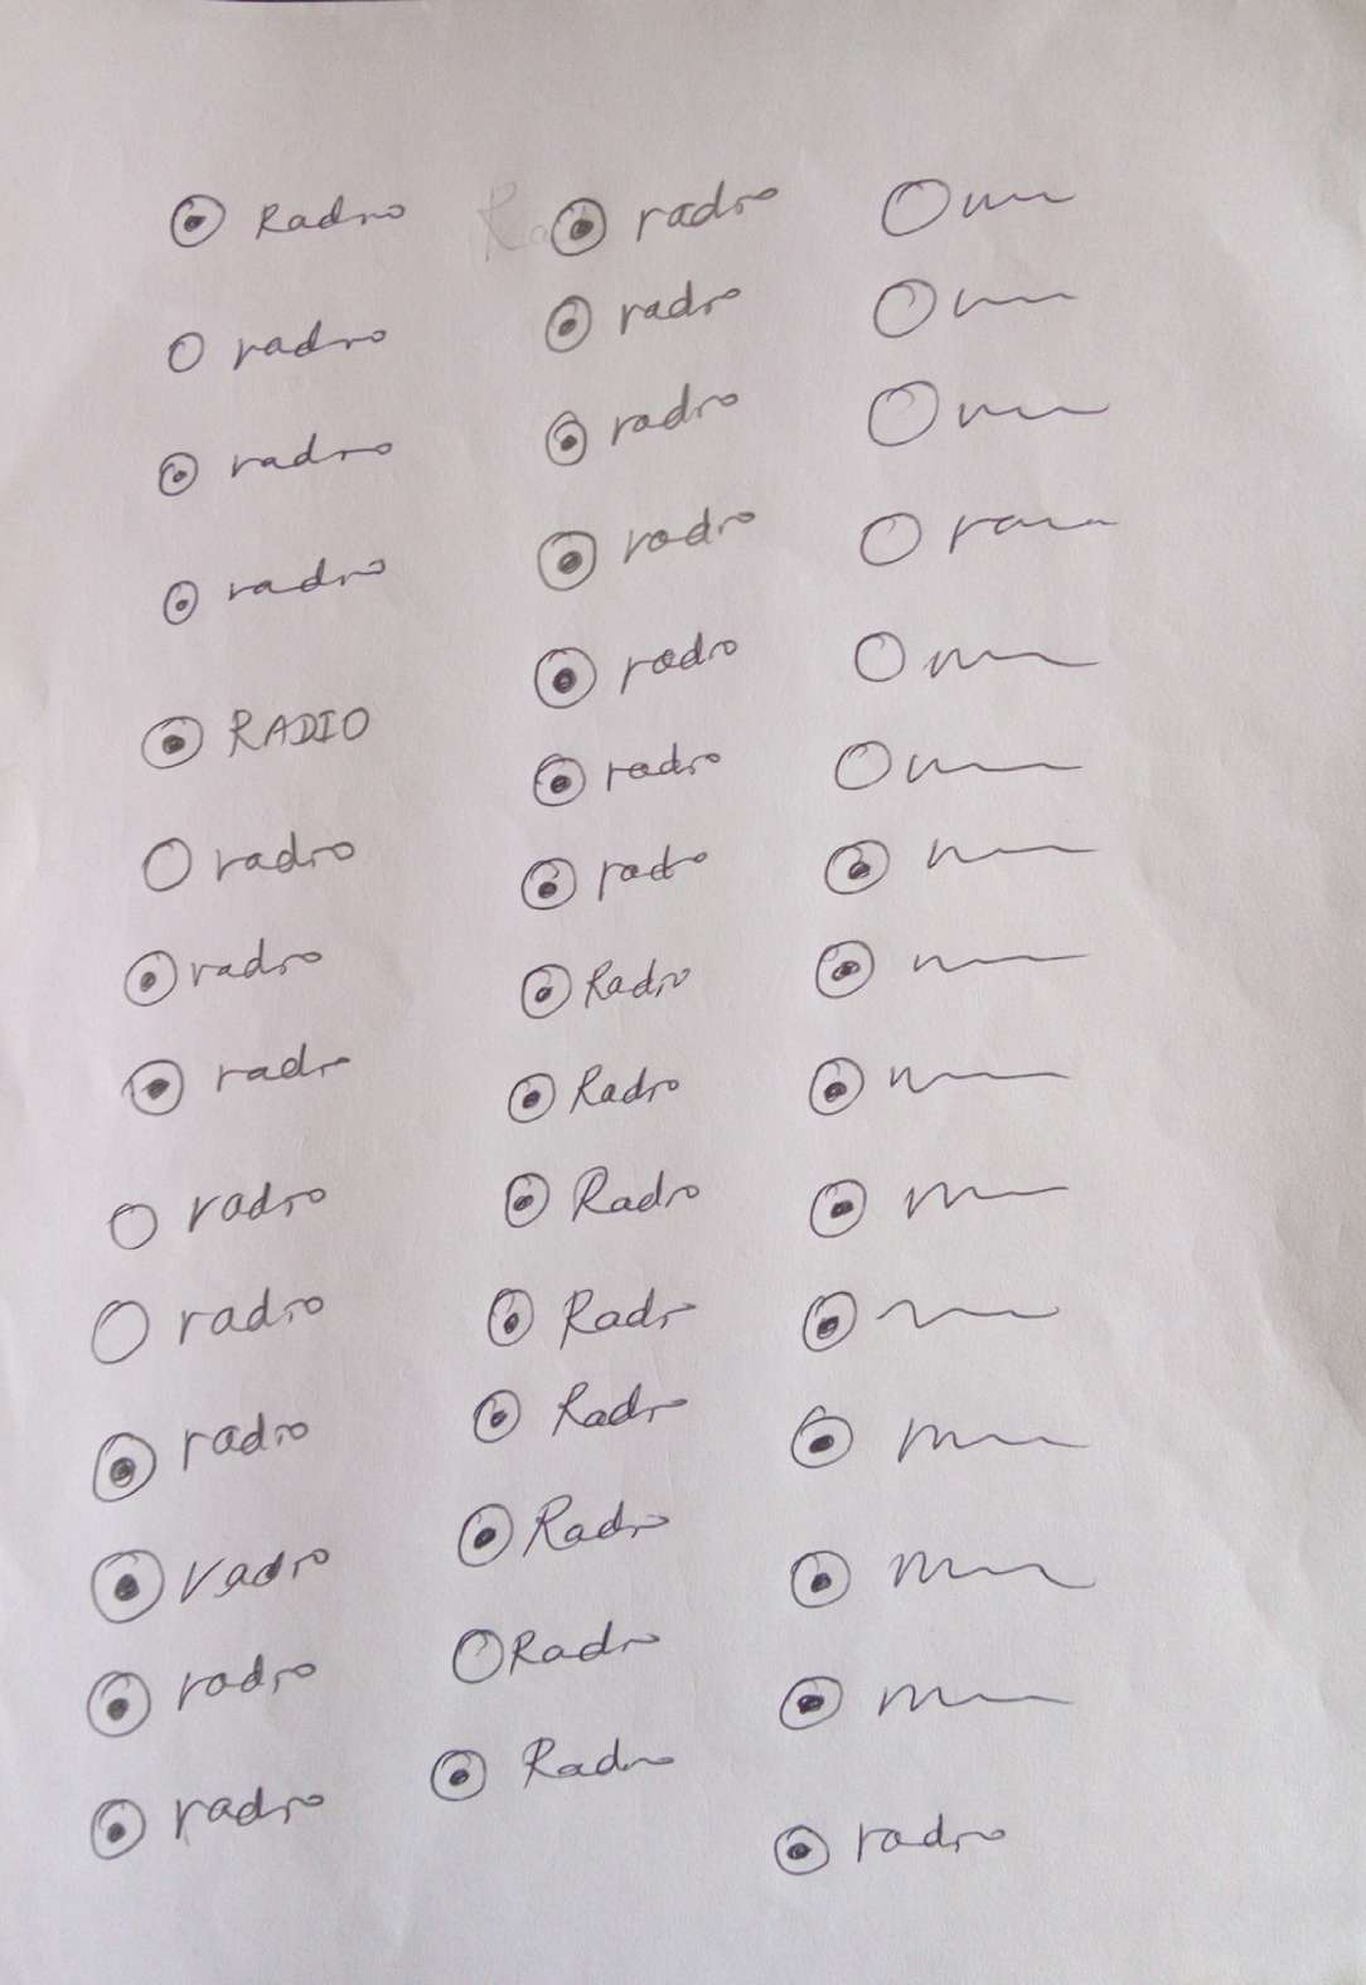Radio Button: (529, 490, 761, 603), (787, 1536, 1102, 1618), (89, 1407, 317, 1517), (81, 1650, 327, 1745), (87, 1539, 338, 1628), (804, 1163, 1077, 1241), (86, 1284, 335, 1370), (78, 1781, 332, 1864), (776, 1665, 1077, 1735), (807, 1048, 1077, 1125), (424, 1727, 677, 1809), (814, 932, 1098, 1005), (158, 545, 394, 630), (549, 173, 784, 258), (119, 1039, 354, 1124), (787, 1407, 1092, 1472), (822, 833, 1102, 902), (796, 1285, 1064, 1358), (859, 376, 1122, 449), (529, 627, 743, 715), (852, 507, 1126, 575), (154, 427, 400, 502), (541, 379, 743, 468), (767, 1809, 1006, 1882), (452, 1493, 672, 1572), (136, 700, 374, 772), (104, 1180, 335, 1253), (541, 278, 749, 357), (850, 624, 1107, 689), (119, 934, 327, 1012), (446, 1617, 662, 1692), (161, 186, 407, 250), (470, 1379, 692, 1448), (482, 1281, 700, 1350), (502, 1160, 707, 1232), (139, 828, 362, 894), (831, 738, 1087, 793), (868, 273, 1083, 339), (161, 315, 391, 377), (529, 741, 724, 811), (516, 843, 712, 913), (881, 170, 1083, 235), (504, 1057, 685, 1130), (519, 953, 694, 1023)
